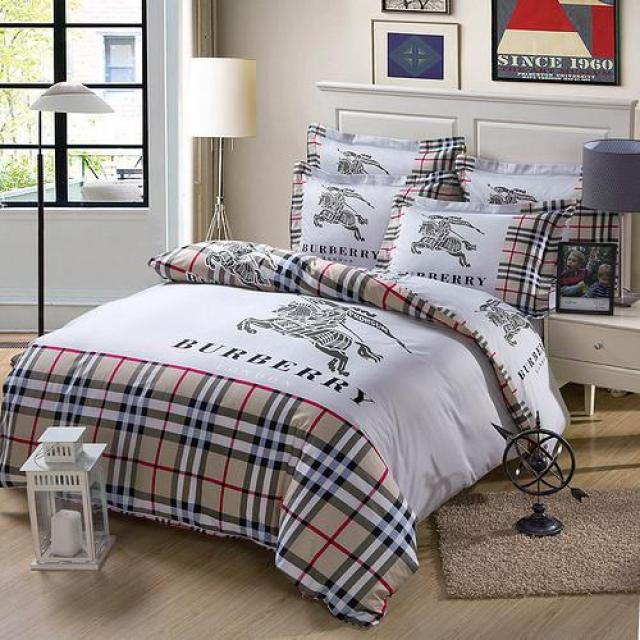bed: (0, 81, 639, 628)
